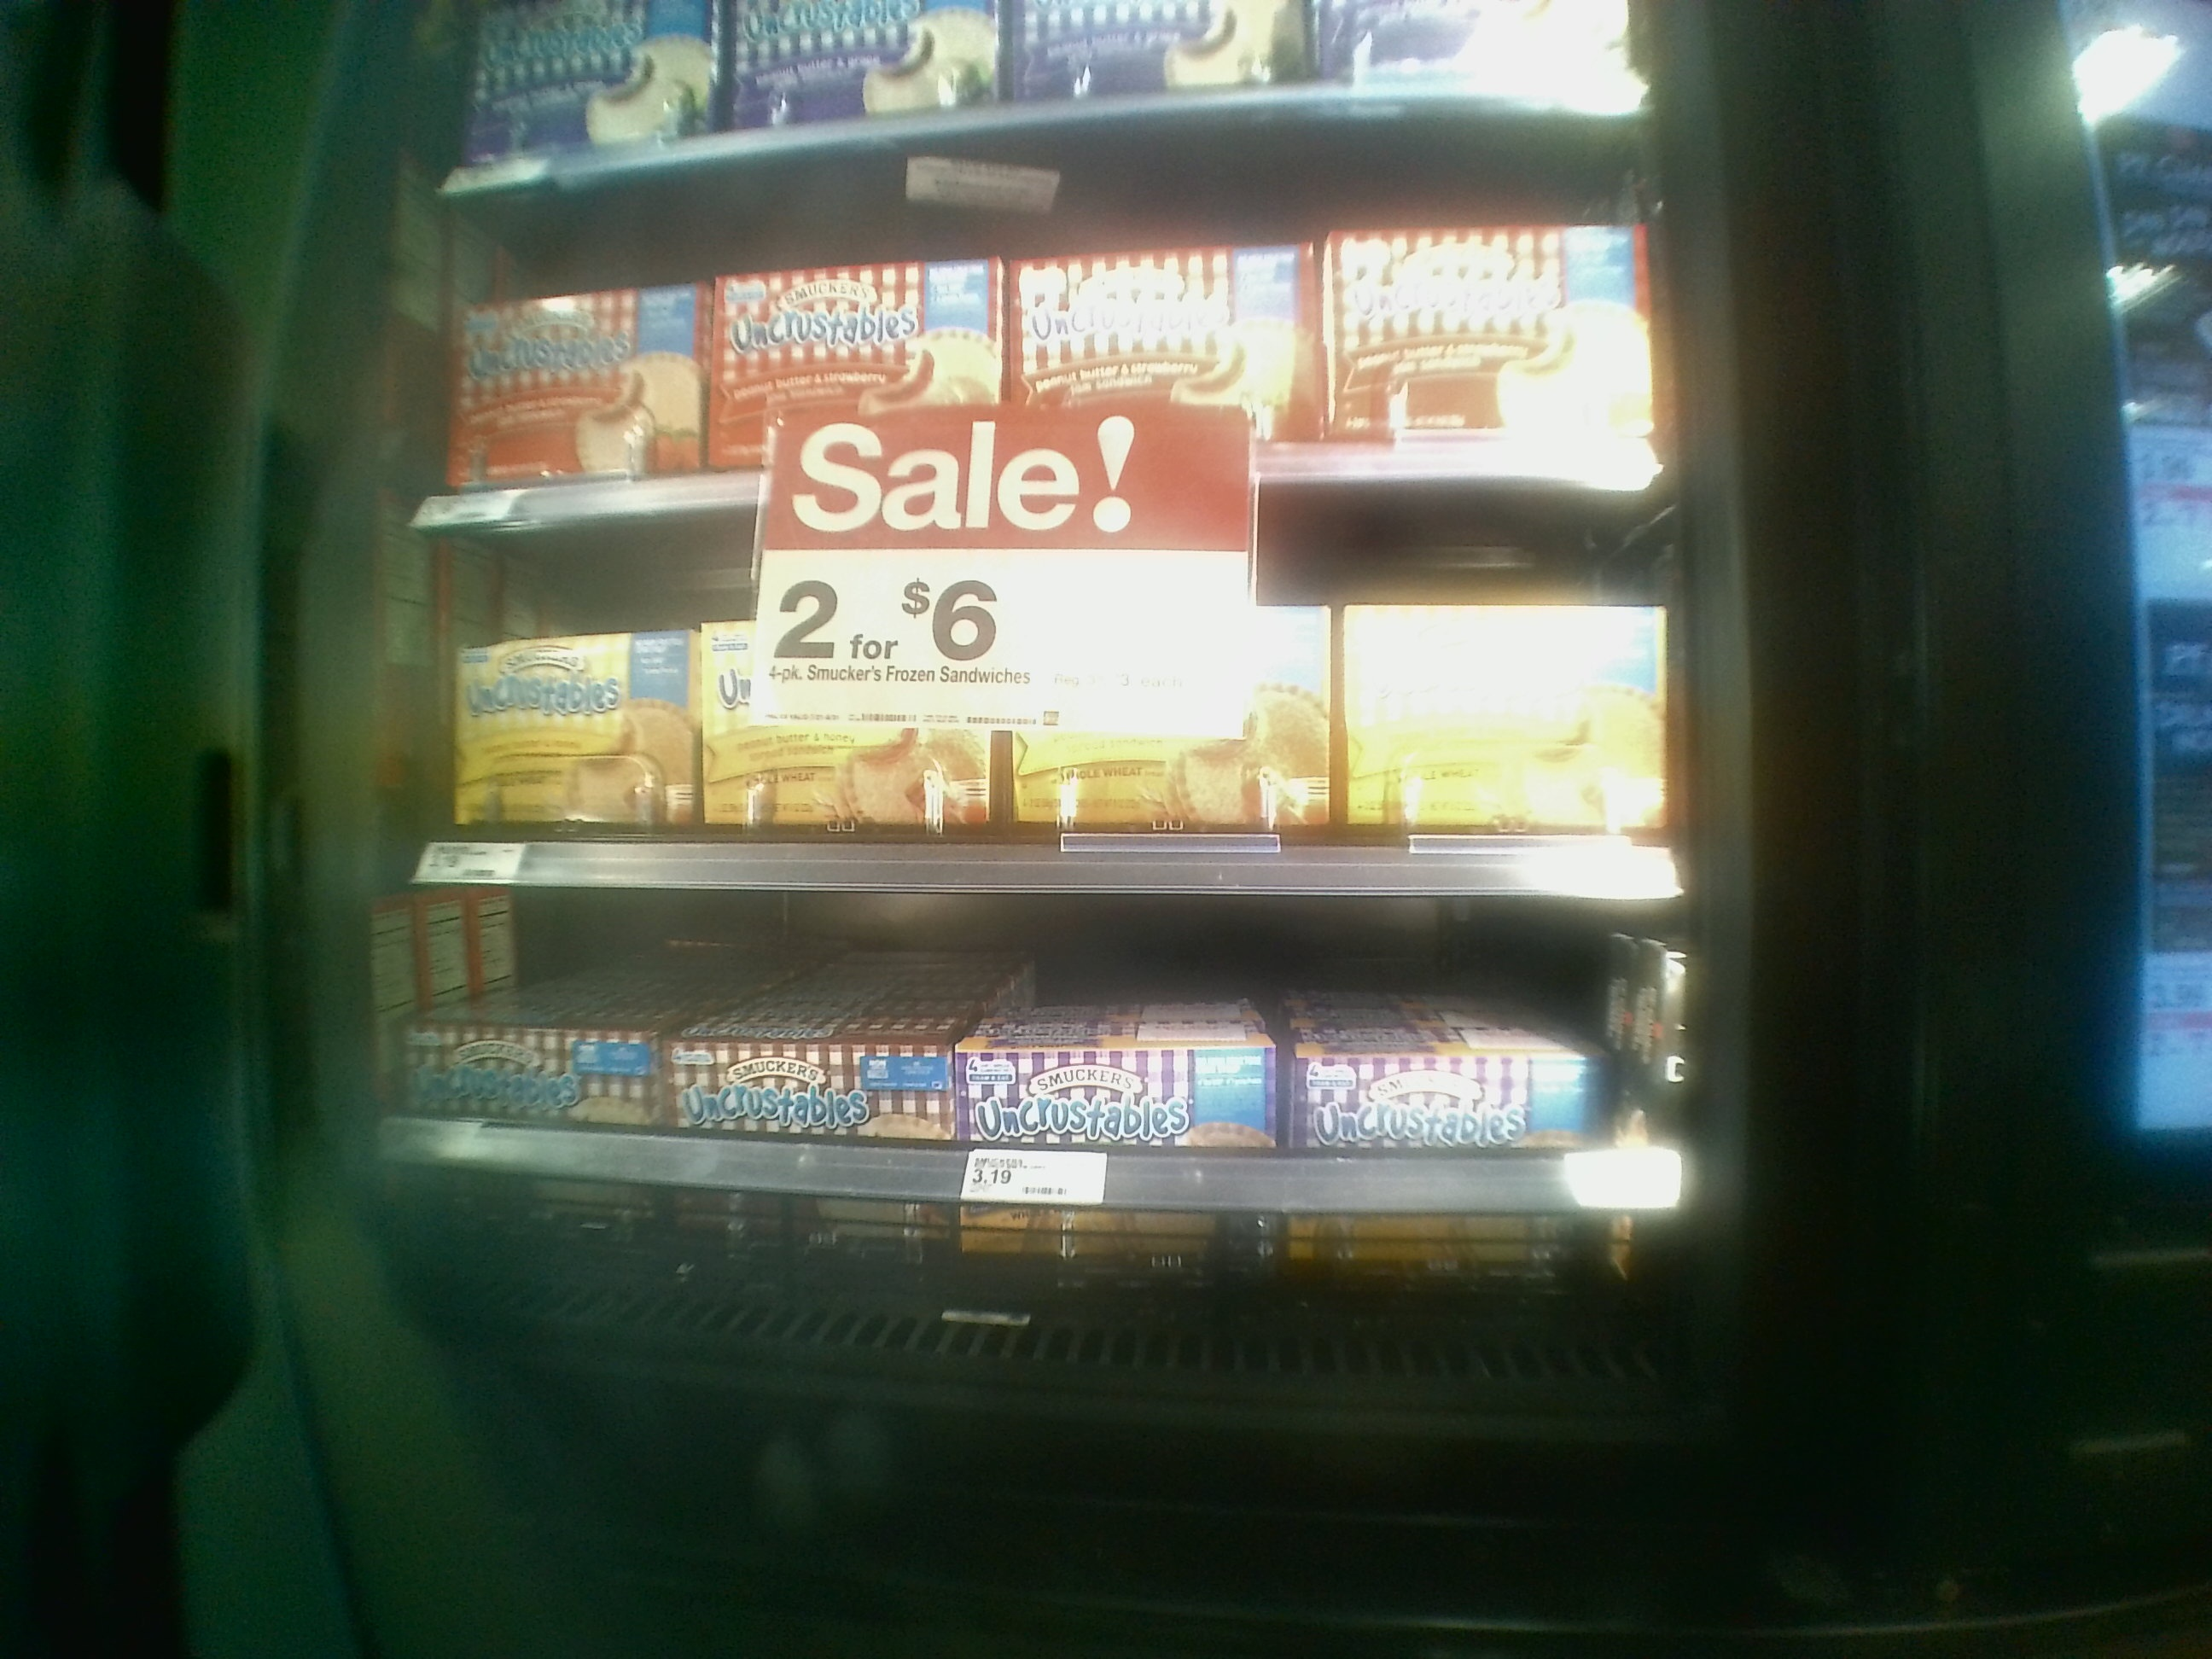shelf: (399, 884, 1747, 1368), (402, 516, 1684, 904), (415, 174, 1658, 493)
